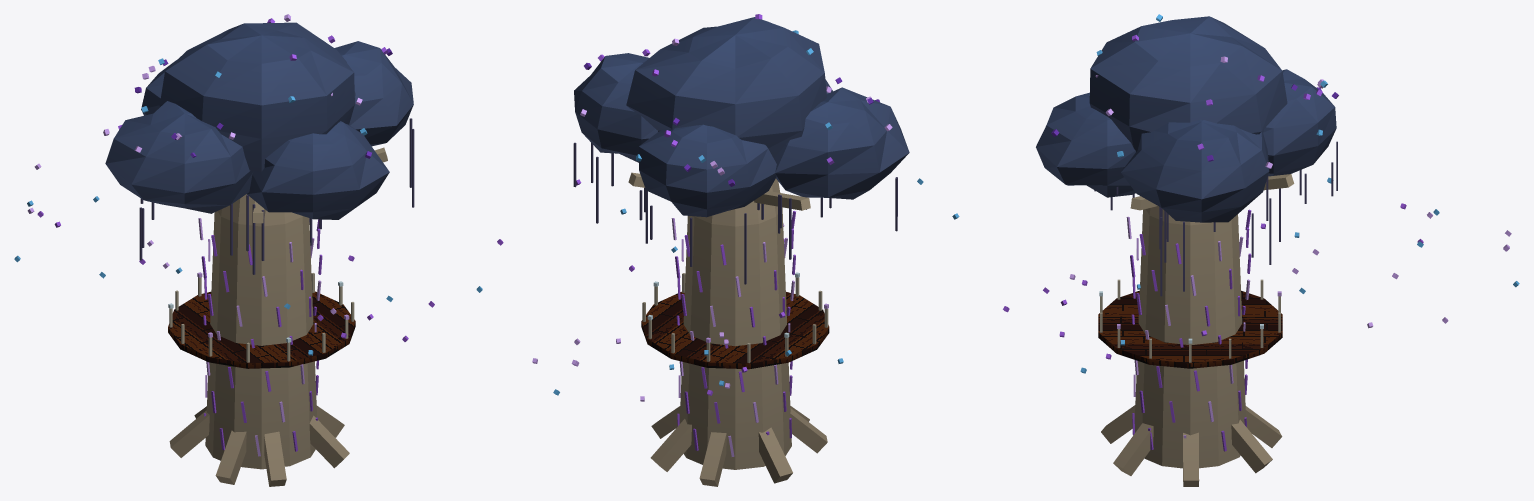
The model's file is silverbark.glb.
The picture shows the model from 3 angles, left to right: view 1: azimuth 30°, elevation 25°; view 2: azimuth 150°, elevation 25°; view 3: azimuth 270°, elevation 25°; orthographic projection.
Parts seen in each view (by area): view 1: silverbark; view 2: silverbark; view 3: silverbark.
Part boxes in pixels (bbox=[...]): silverbark: bbox=[14, 14, 503, 486]; silverbark: bbox=[532, 14, 923, 486]; silverbark: bbox=[952, 14, 1519, 486].
Size of the model in its own units: 11.61 by 12.24 by 15.
3 materials, 1 textured.
